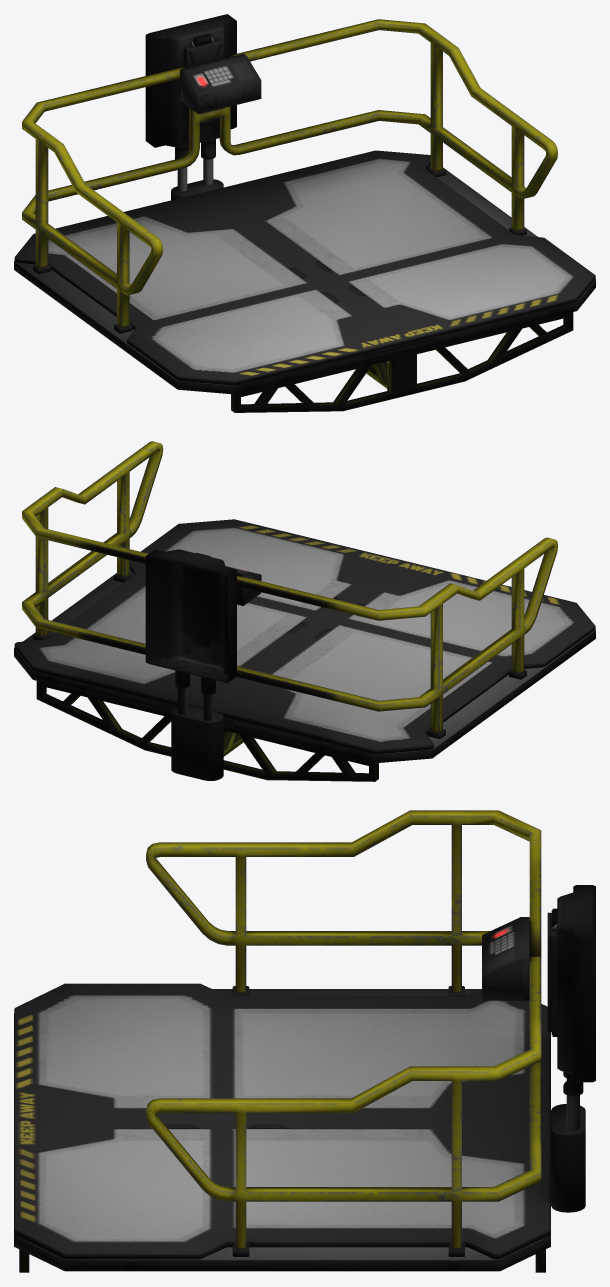
The model's file is BG_GR_BD_Lift_01.fbx.
3 renders of one model, top to bottom at view 1: azimuth 30°, elevation 25°; view 2: azimuth 150°, elevation 25°; view 3: azimuth 270°, elevation 25°, orthographic. The views are drawn at different scales.
Parts seen in each view (by area): view 1: lift_rail_01_low; view 2: lift_rail_01_low; view 3: lift_rail_01_low.
Boxes of the visible parts, bbox=[...] form: lift_rail_01_low: bbox=[14, 14, 595, 412]; lift_rail_01_low: bbox=[14, 441, 595, 781]; lift_rail_01_low: bbox=[14, 810, 595, 1272].
Size of the model in its own units: 330 by 162 by 299.
1 material, 1 textured.
